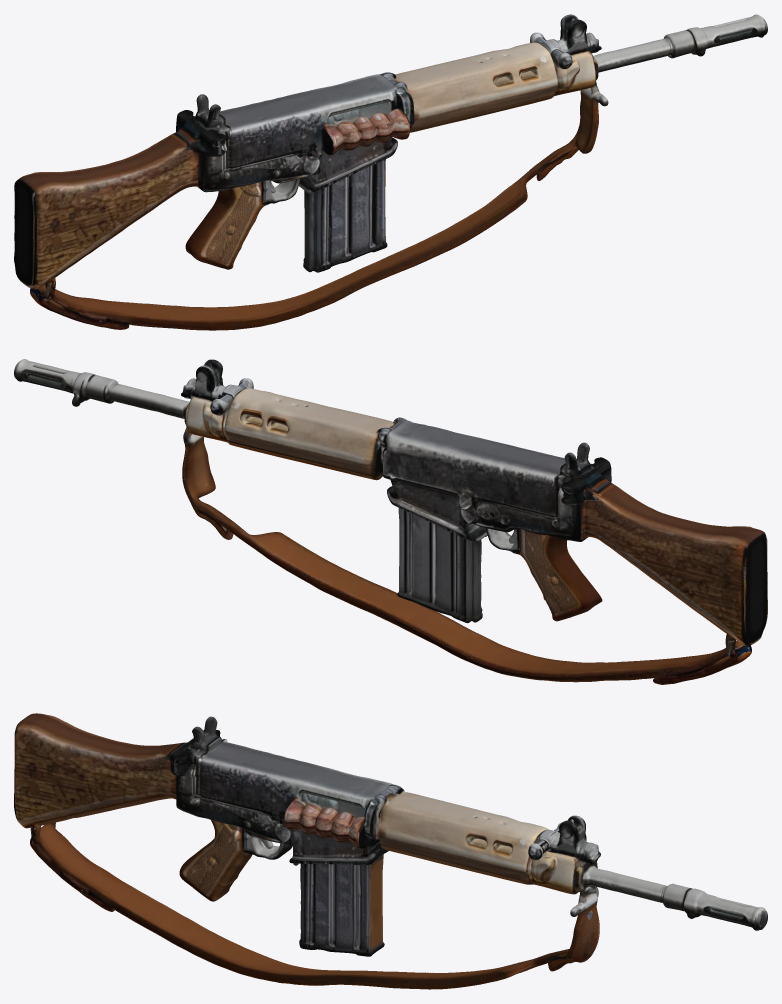
File: slr.glb
3 renders of one model, top to bottom at view 1: azimuth 30°, elevation 25°; view 2: azimuth 150°, elevation 25°; view 3: azimuth 330°, elevation 25°, orthographic.
Visible parts, largest first — view 1: Object_01; view 2: Object_01; view 3: Object_01.
Boxes of the visible parts, box(x1,y1,x2,y2) form: Object_01: box(14, 14, 767, 330); Object_01: box(14, 359, 767, 684); Object_01: box(14, 713, 767, 989).
Bounding box in the file's own units: 1 × 0.3039 × 0.1044.
Materials: 1 (1 with a texture image).
